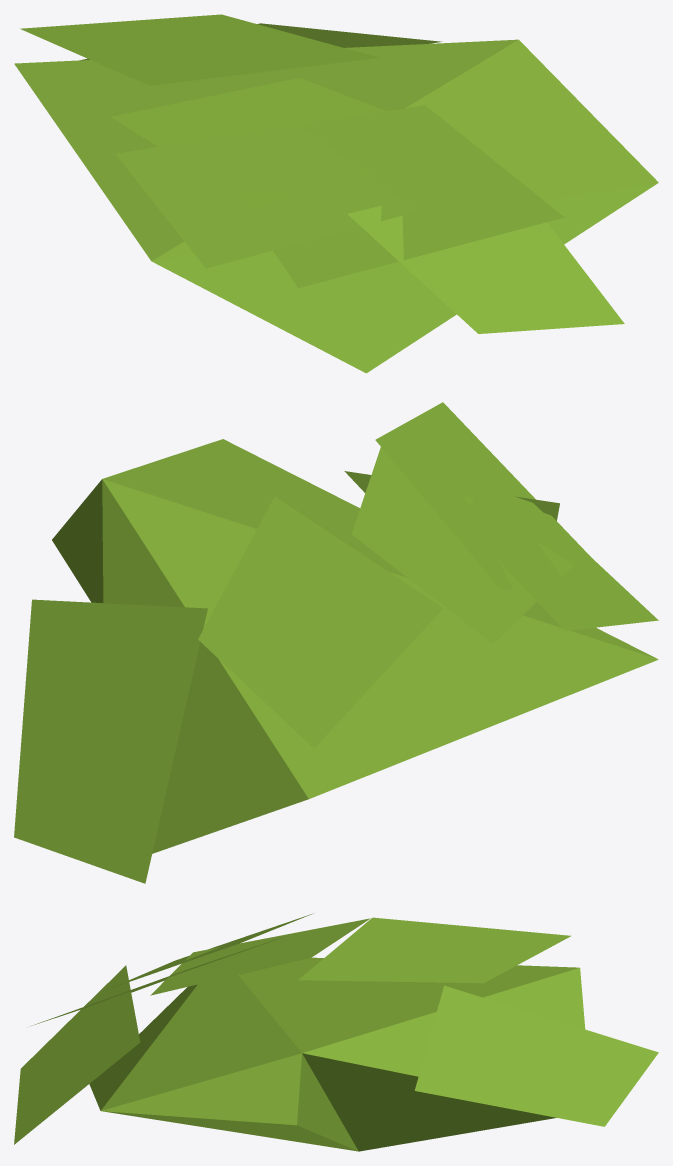
Rendered from SM_Leaves_Bunch_A.fbx.
3 views of the same model, one above another, from view 1: azimuth 30°, elevation 25°; view 2: azimuth 150°, elevation 25°; view 3: azimuth 270°, elevation 25° (orthographic). The views are drawn at different scales.
Parts seen in each view (by area): view 1: leaves-bunch-a; view 2: leaves-bunch-a; view 3: leaves-bunch-a.
Part boxes in pixels (bbox=[...]): leaves-bunch-a: bbox=[14, 14, 658, 373]; leaves-bunch-a: bbox=[14, 402, 658, 883]; leaves-bunch-a: bbox=[14, 913, 658, 1151].
Size of the model in its own units: 0.2954 by 0.1194 by 0.4279.
